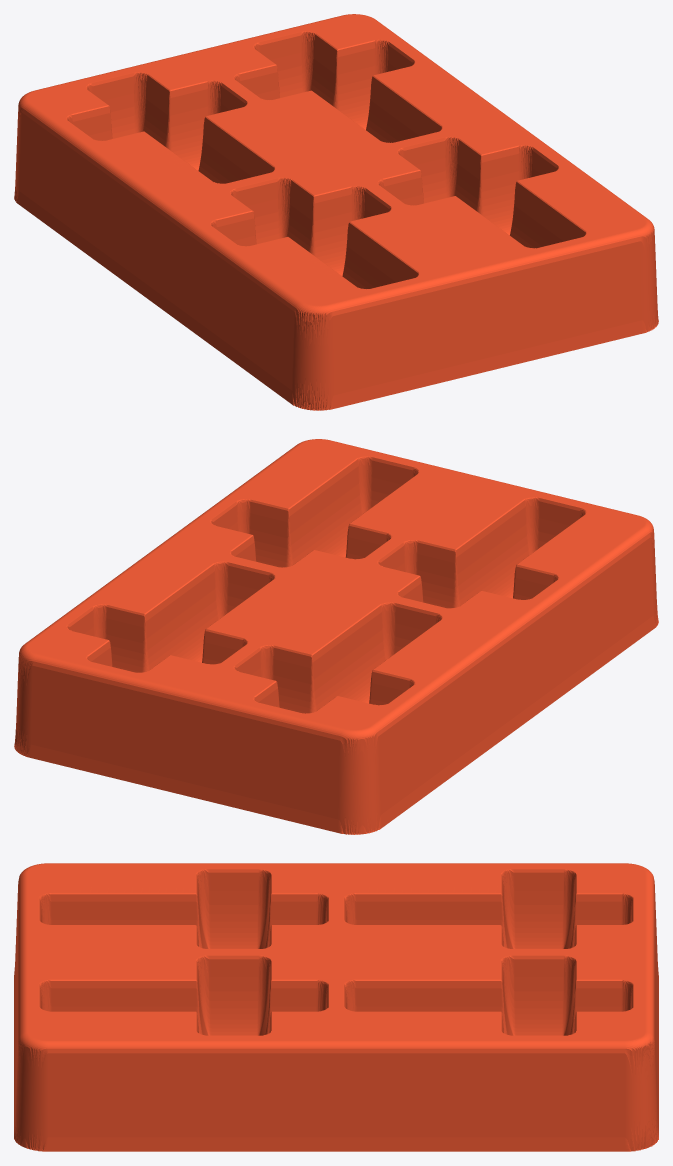
The model's file is mold.glb.
3 renders of one model, top to bottom at view 1: azimuth 30°, elevation 25°; view 2: azimuth 150°, elevation 25°; view 3: azimuth 270°, elevation 25°, orthographic. The views are drawn at different scales.
Visible parts, largest first — view 1: geometry_0; view 2: geometry_0; view 3: geometry_0.
Boxes of the visible parts, bbox=[...] form: geometry_0: bbox=[14, 14, 658, 410]; geometry_0: bbox=[14, 439, 658, 834]; geometry_0: bbox=[14, 863, 658, 1151].
Size of the model in its own units: 0.1186 by 0.031 by 0.1721.
